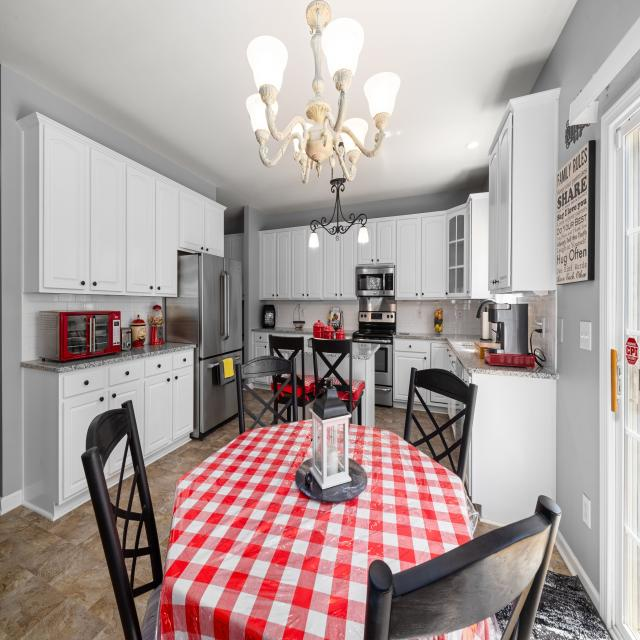Appliance_Fridge: (165, 252, 243, 439)
Appliance_Microwave: (356, 265, 394, 298)
Appliance_Oven: (352, 311, 396, 408)
Appliance_Sink: (474, 299, 497, 320)
Cabinet_Flat: (61, 350, 195, 394), (396, 339, 429, 351), (255, 332, 268, 343), (449, 351, 454, 369)
Cabinet_Glass: (446, 208, 468, 296)
Cabinet_Raised_Panel: (42, 117, 224, 298), (61, 367, 195, 502), (258, 210, 447, 302), (488, 111, 515, 289), (392, 342, 452, 407), (464, 199, 473, 298), (256, 345, 269, 358)
Countertop_Granite: (393, 331, 556, 375), (25, 344, 195, 372), (351, 342, 379, 356), (252, 327, 314, 332)
